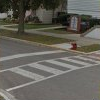crosswalk: (8, 55, 99, 81)
